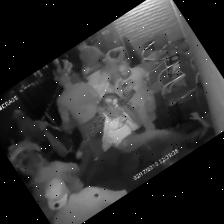person: (99, 93, 200, 152), (9, 141, 83, 216), (45, 178, 126, 223), (11, 109, 72, 160), (57, 74, 104, 139), (115, 61, 156, 129), (77, 41, 105, 74), (53, 58, 72, 80)
